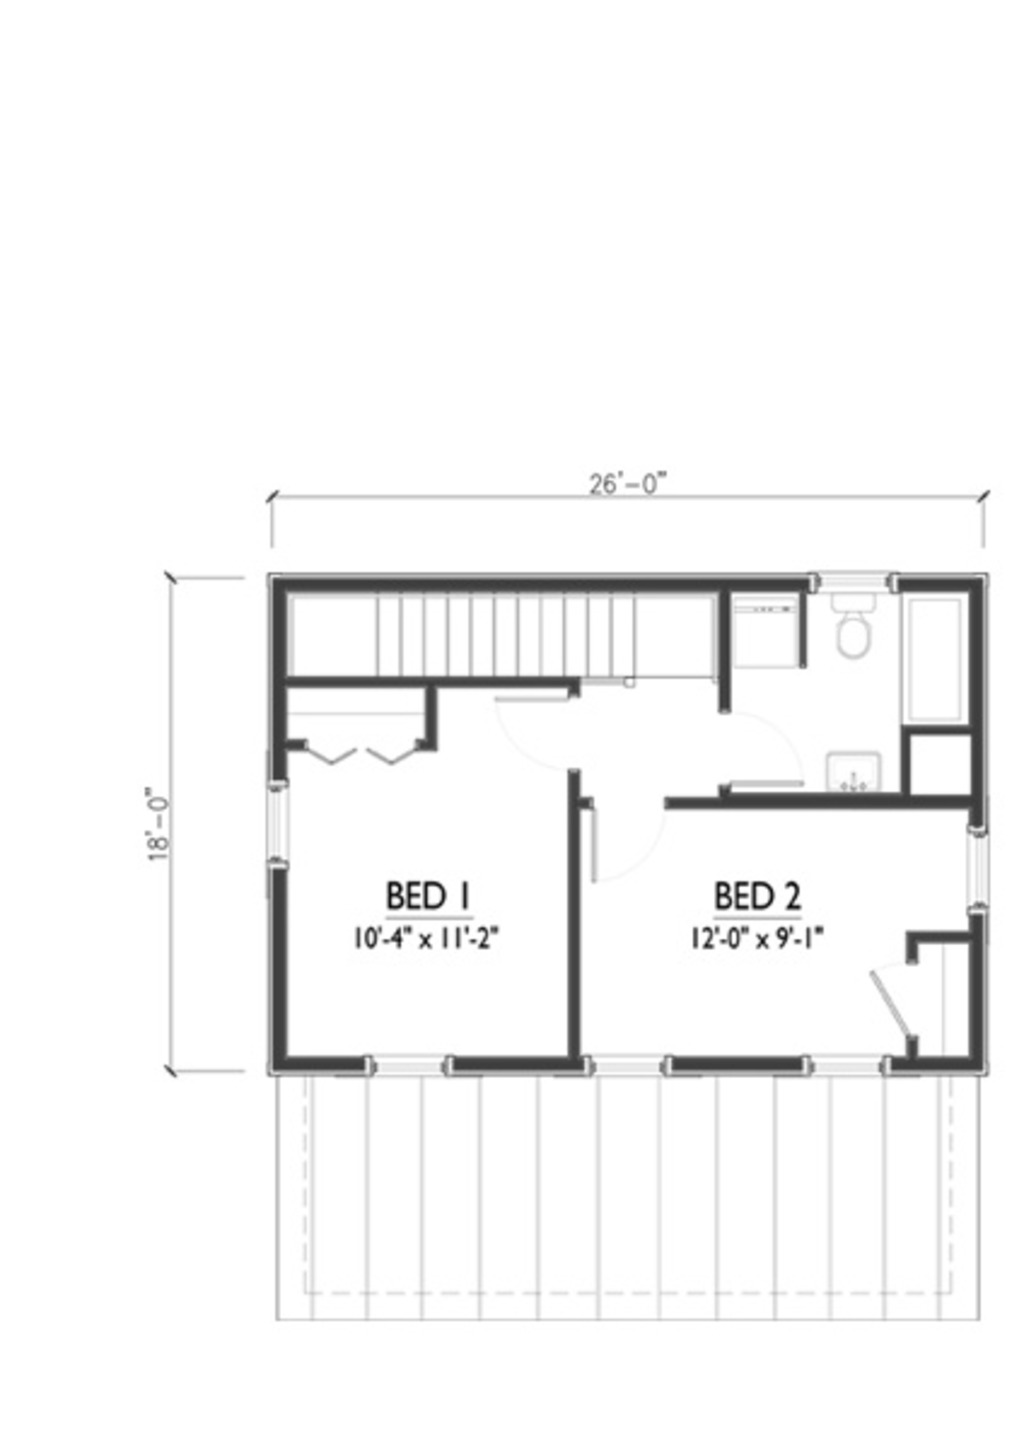door: (723, 701, 806, 790), (586, 797, 666, 883)
large_sink: (825, 587, 888, 664)
stairs: (272, 584, 723, 690)
windows: (357, 1050, 457, 1085), (961, 820, 995, 919), (583, 1047, 674, 1083), (262, 775, 291, 877), (797, 1057, 885, 1085)
